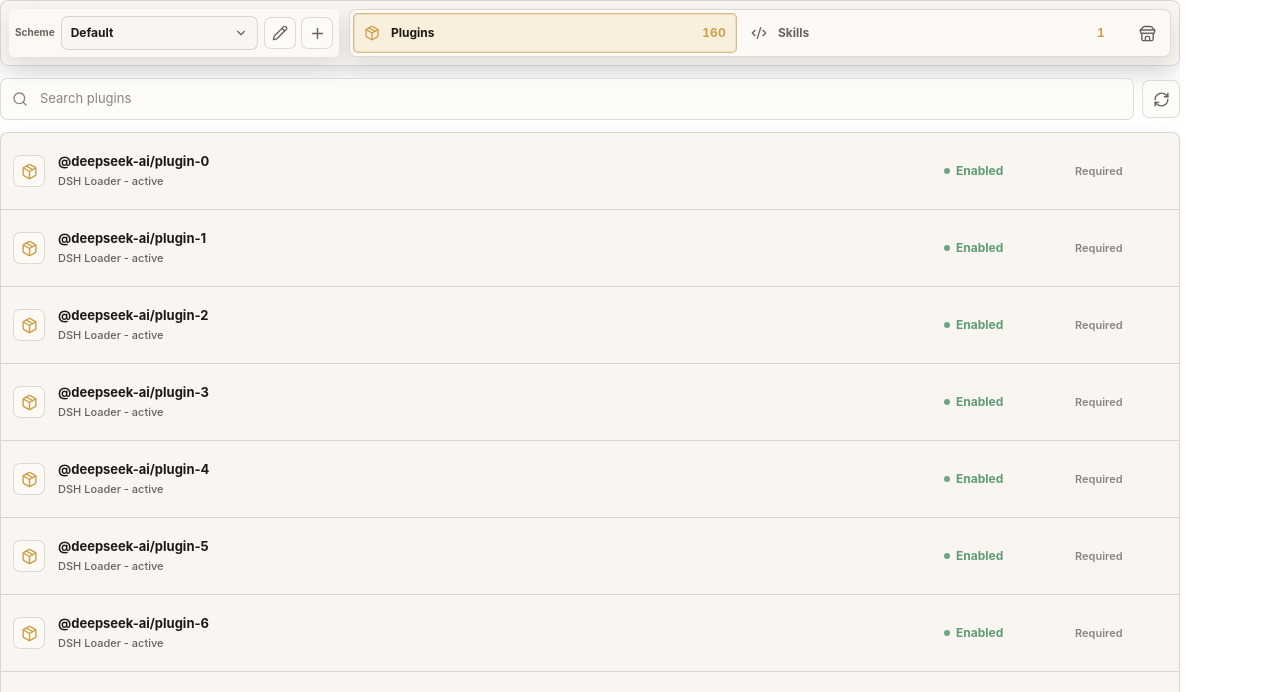
DSH resource schemes page › renders natural English resource copy from the locale catalog
This screenshot has width=1280, height=692.
Expected: the text "Default" is shown, [71,25,113,40]
Expected: the field with placeholder "Search plugins" is shown, [40,79,1122,119]
Click the button named "Marketplace" at x=1147, y=33, box [1127,13,1167,53]
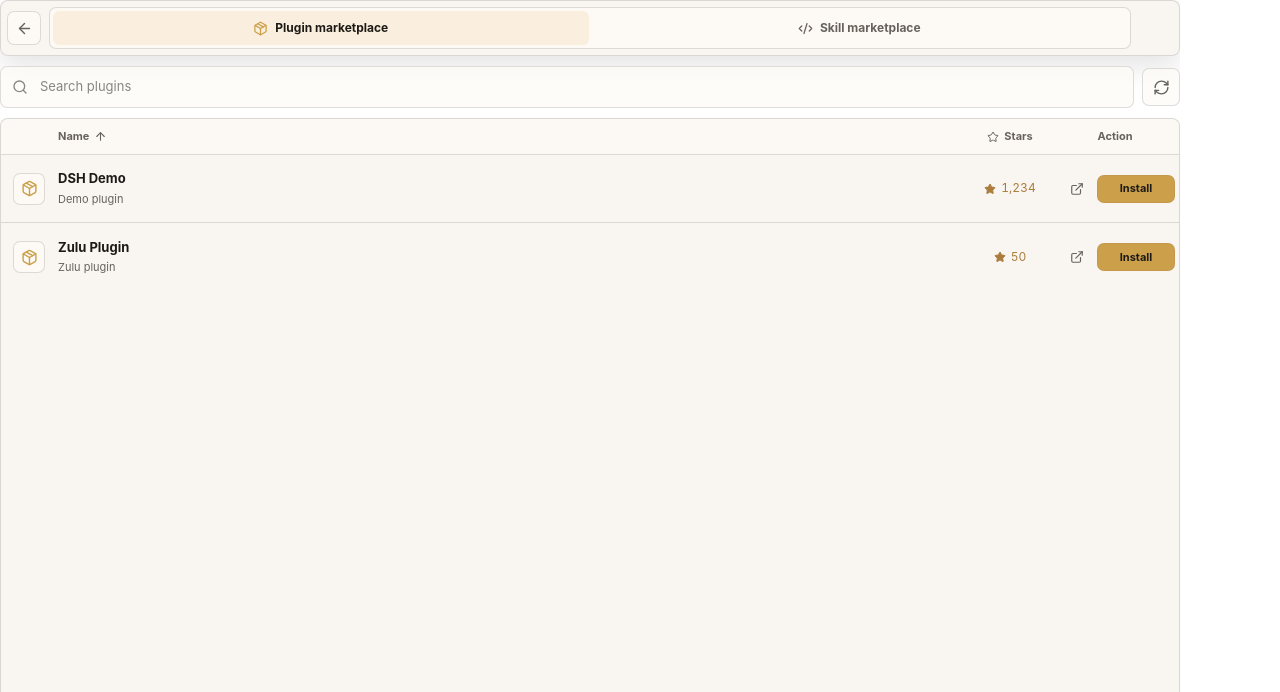
Expected: the button "Plugin marketplace" is shown, [53,11,588,45]
Expected: the button with aria-label "Sort by Stars" is shown, [968,119,1052,154]
